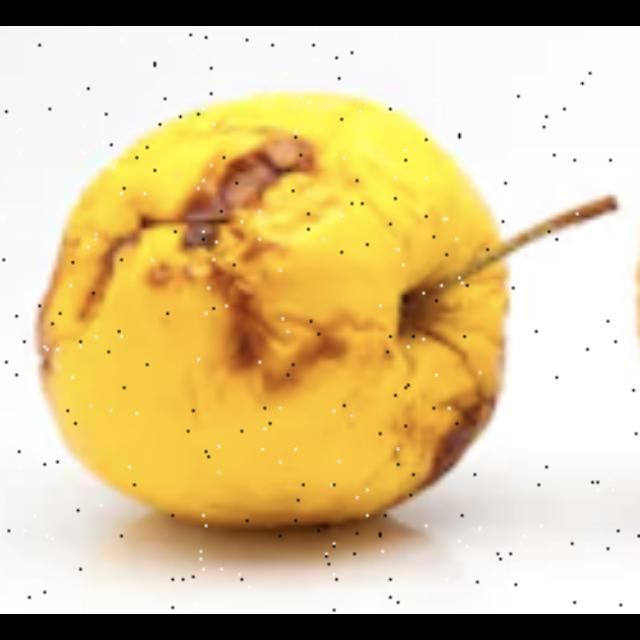Apel Tidak Segar: (26, 83, 516, 543)
